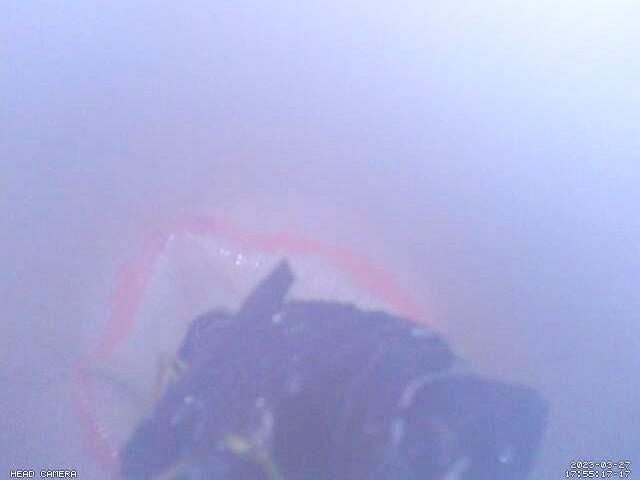head: (69, 210, 438, 480)
